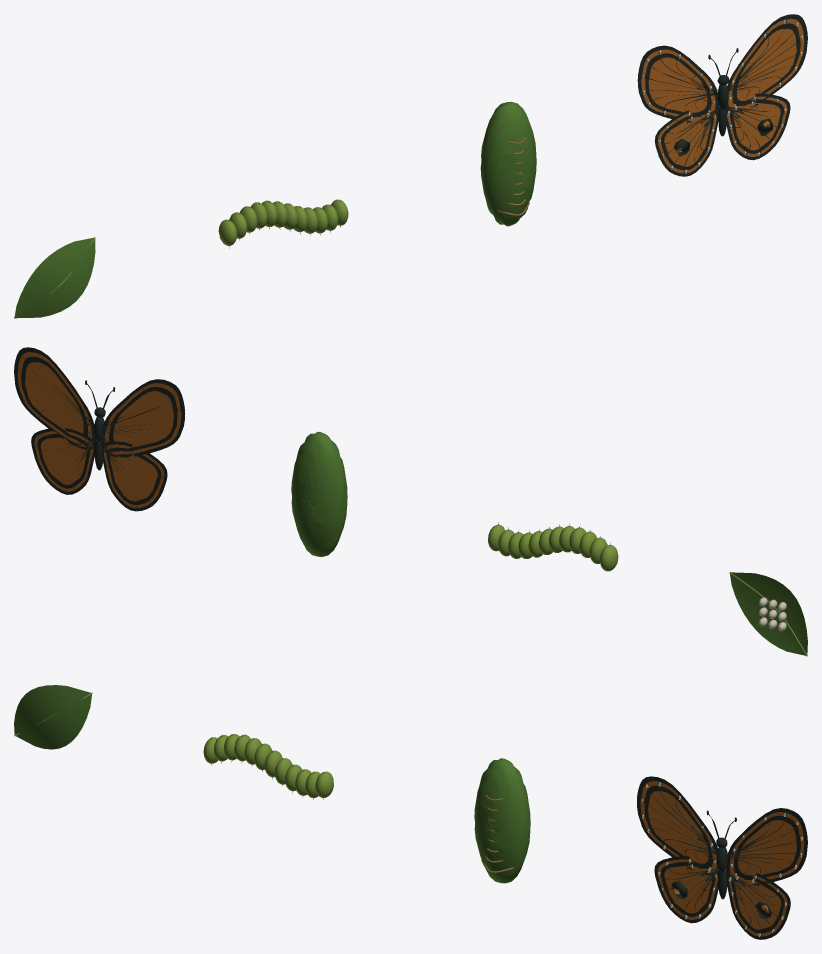
3 views of the same model, one above another, from view 1: azimuth 30°, elevation 25°; view 2: azimuth 150°, elevation 25°; view 3: azimuth 330°, elevation 25° (orthographic).
Parts seen in each view (by area): view 1: B11_SPEC_Chitin_export; view 2: B11_SPEC_Chitin_export; view 3: B11_SPEC_Chitin_export.
Part boxes in pixels (<box>): B11_SPEC_Chitin_export: <box>14,14,807,318</box>; B11_SPEC_Chitin_export: <box>14,347,807,656</box>; B11_SPEC_Chitin_export: <box>14,685,807,939</box>.
Size of the model in its own units: 5.01 by 0.847 by 0.2481.
